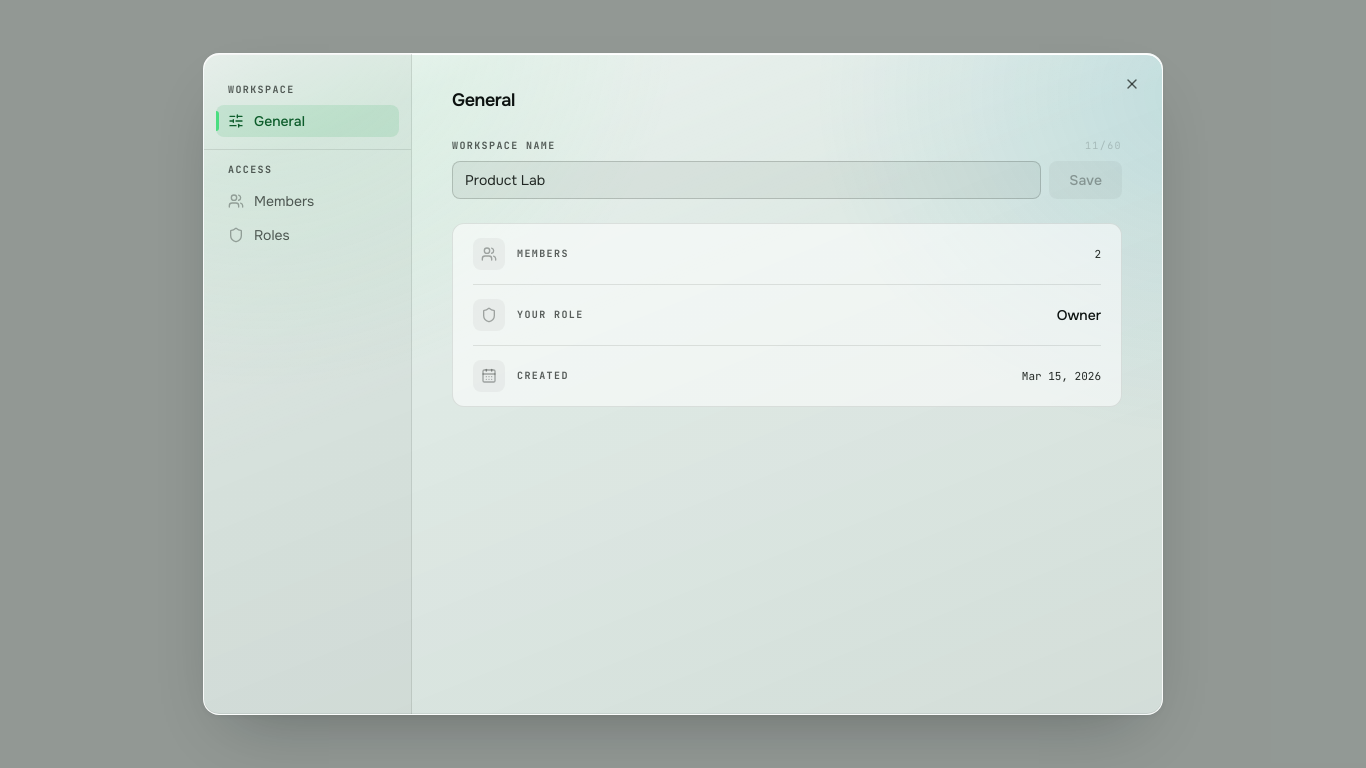
Scenario: WorkspaceSettings › GIVEN loaded settings of a workspace the owner opened › WHEN the members section is picked › THEN the roster and the invite form show
The width and height of the screenshot is (1366, 768).
Click the button "Members" at (308, 201), box x1=216 y1=185 x2=399 y2=217
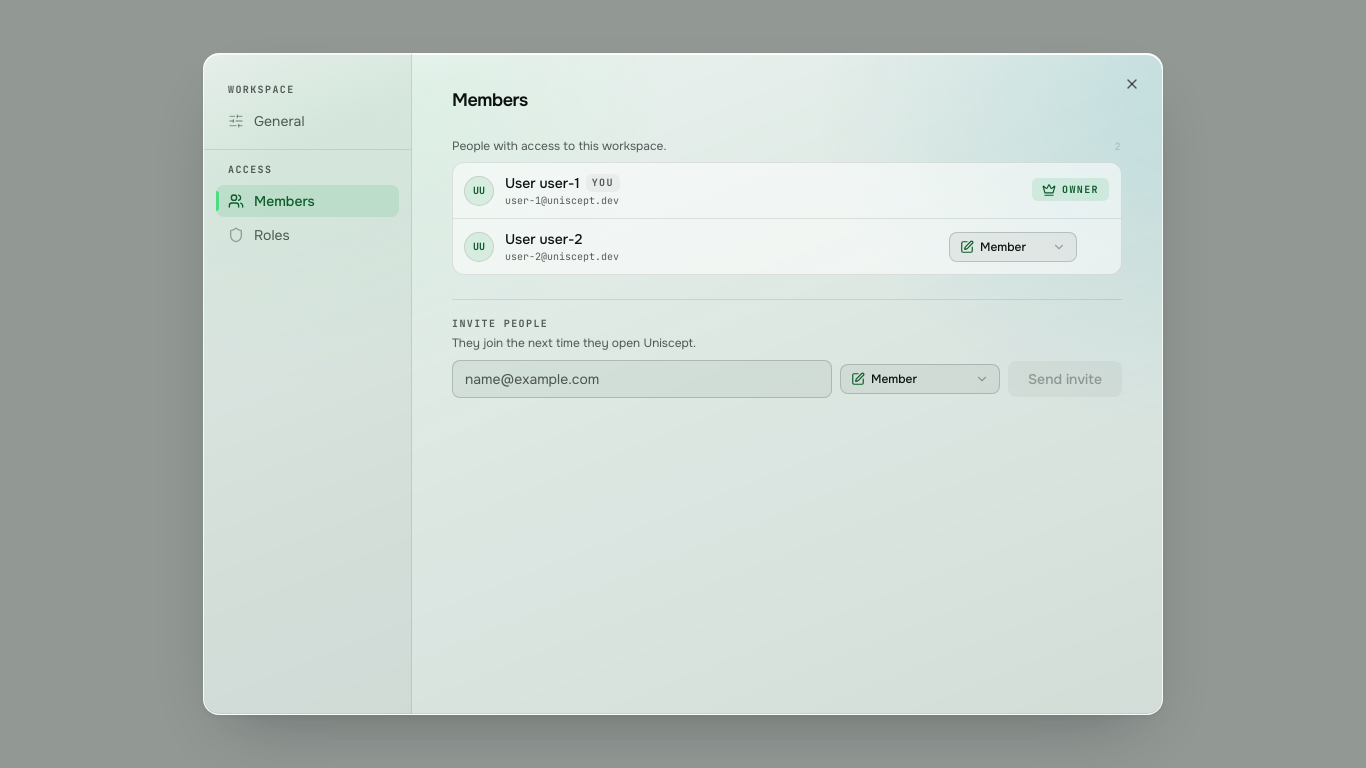
Result: the text "user-2@uniscept.dev" is shown at x1=505 y1=250 x2=619 y2=263
Result: the field with placeholder "name@example.com" is shown at x1=452 y1=360 x2=832 y2=398
